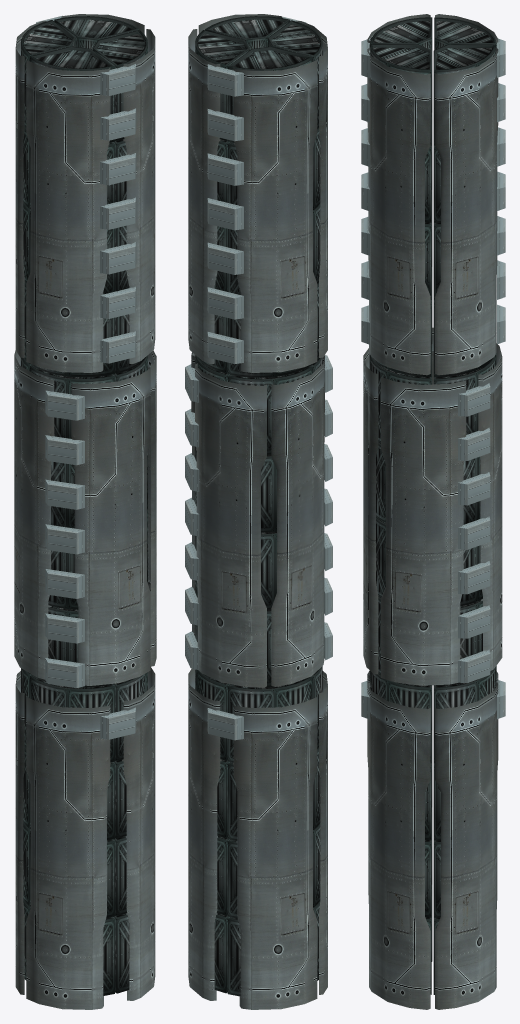
The model's file is CargoContainers.fbx.
3 renders of one model, left to right at view 1: azimuth 30°, elevation 25°; view 2: azimuth 150°, elevation 25°; view 3: azimuth 270°, elevation 25°, orthographic.
Parts seen in each view (by area): view 1: Plane.001; view 2: Plane.001; view 3: Plane.001.
Boxes of the visible parts, x1,y1,x2,y2 form: Plane.001: (14,14,156,1009); Plane.001: (185,14,332,1009); Plane.001: (361,14,505,1009).
Bounding box in the file's own units: 396 × 2853 × 399.
